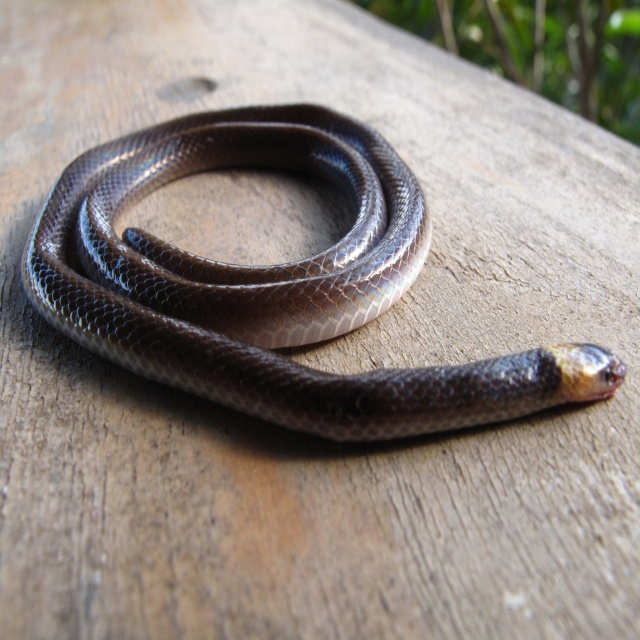Snake: (25, 102, 629, 443)
